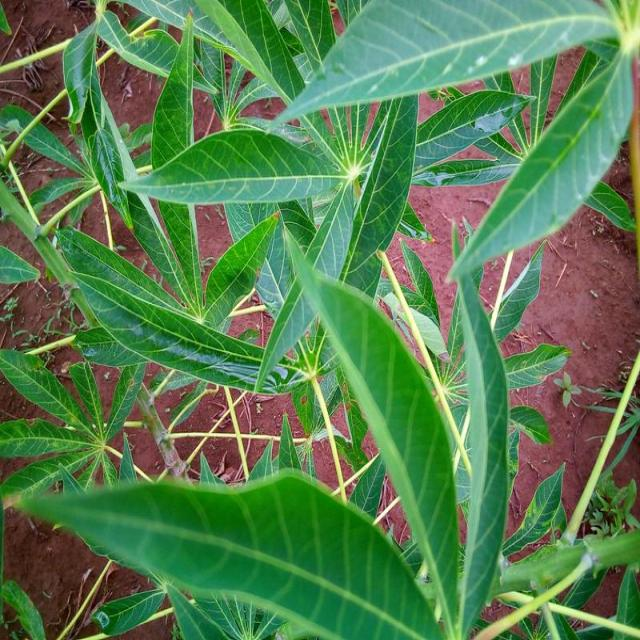cassava leaf: (3, 1, 638, 638), (276, 212, 462, 635), (13, 464, 444, 638), (271, 0, 621, 128), (118, 124, 343, 206)
